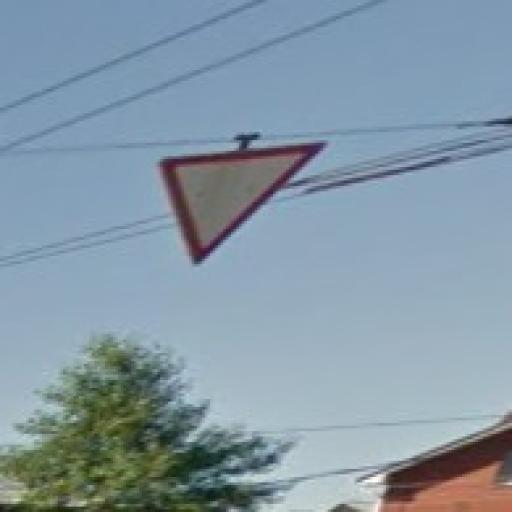traffic_sign: (161, 141, 327, 265)
